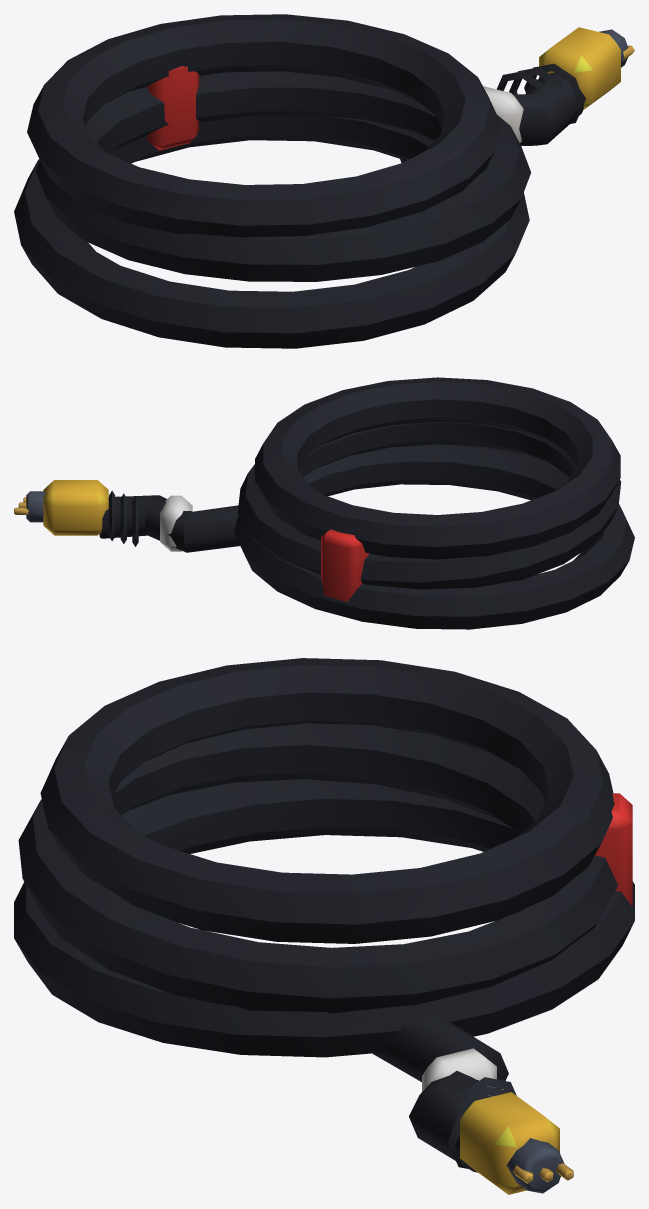
The model's file is SM_Prop_CableCoil.fbx.
The picture shows the model from 3 angles, top to bottom: view 1: azimuth 30°, elevation 25°; view 2: azimuth 150°, elevation 25°; view 3: azimuth 270°, elevation 25°; orthographic projection. The views are drawn at different scales.
Parts seen in each view (by area): view 1: SM_Prop_CableCoil; view 2: SM_Prop_CableCoil; view 3: SM_Prop_CableCoil.
Boxes of the visible parts, bbox=[...] form: SM_Prop_CableCoil: bbox=[14, 14, 634, 348]; SM_Prop_CableCoil: bbox=[14, 377, 634, 629]; SM_Prop_CableCoil: bbox=[14, 658, 634, 1194].
Bounding box in the file's own units: 111 × 25.48 × 73.65.
